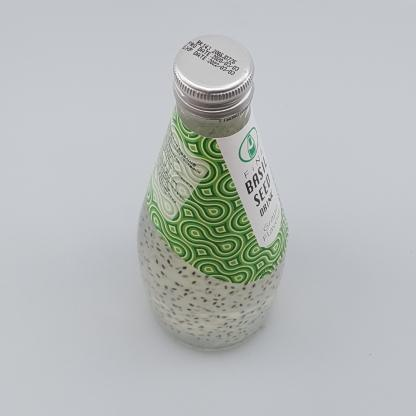------------------------: (137, 34, 289, 351)
